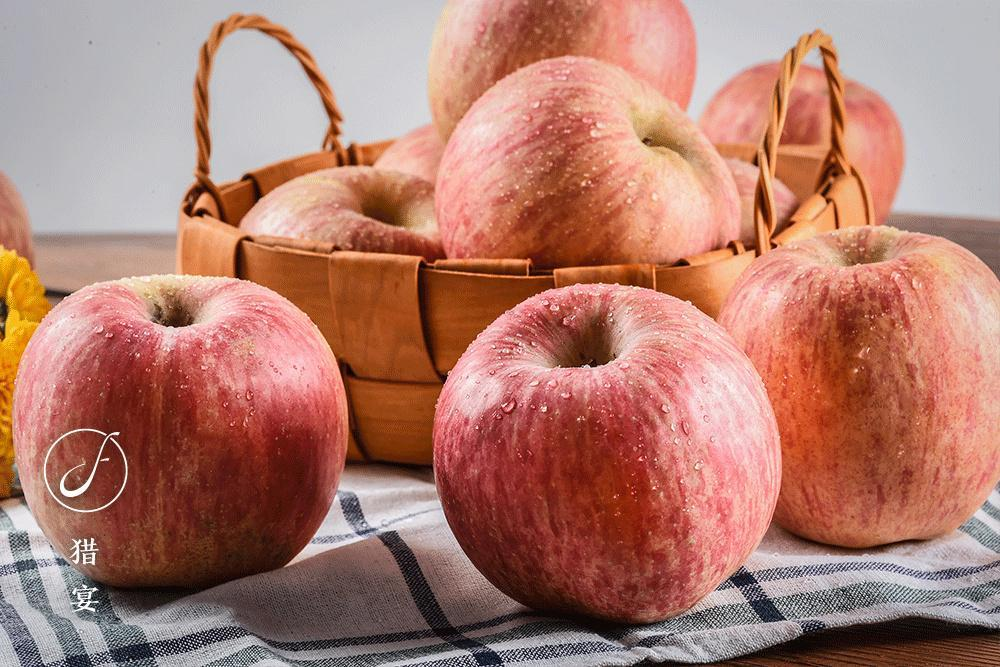apple: (430, 278, 783, 622), (9, 270, 350, 596), (710, 224, 1000, 554), (435, 48, 742, 256), (426, 2, 699, 139)
